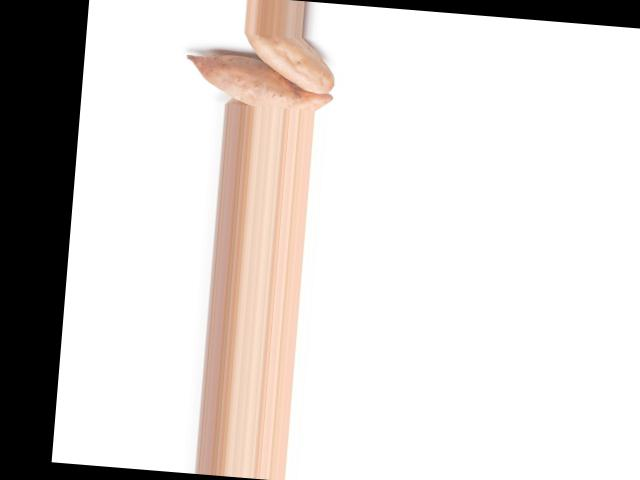sweet_potato: (234, 31, 338, 93)
